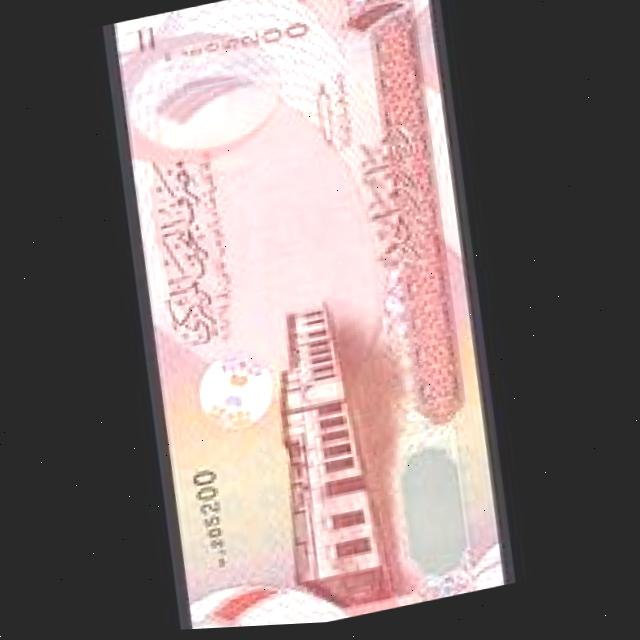banknote: (91, 0, 525, 636)
